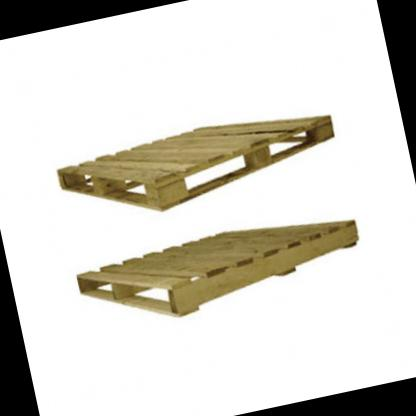BoxFace: (73, 218, 362, 319), (55, 114, 337, 213)
